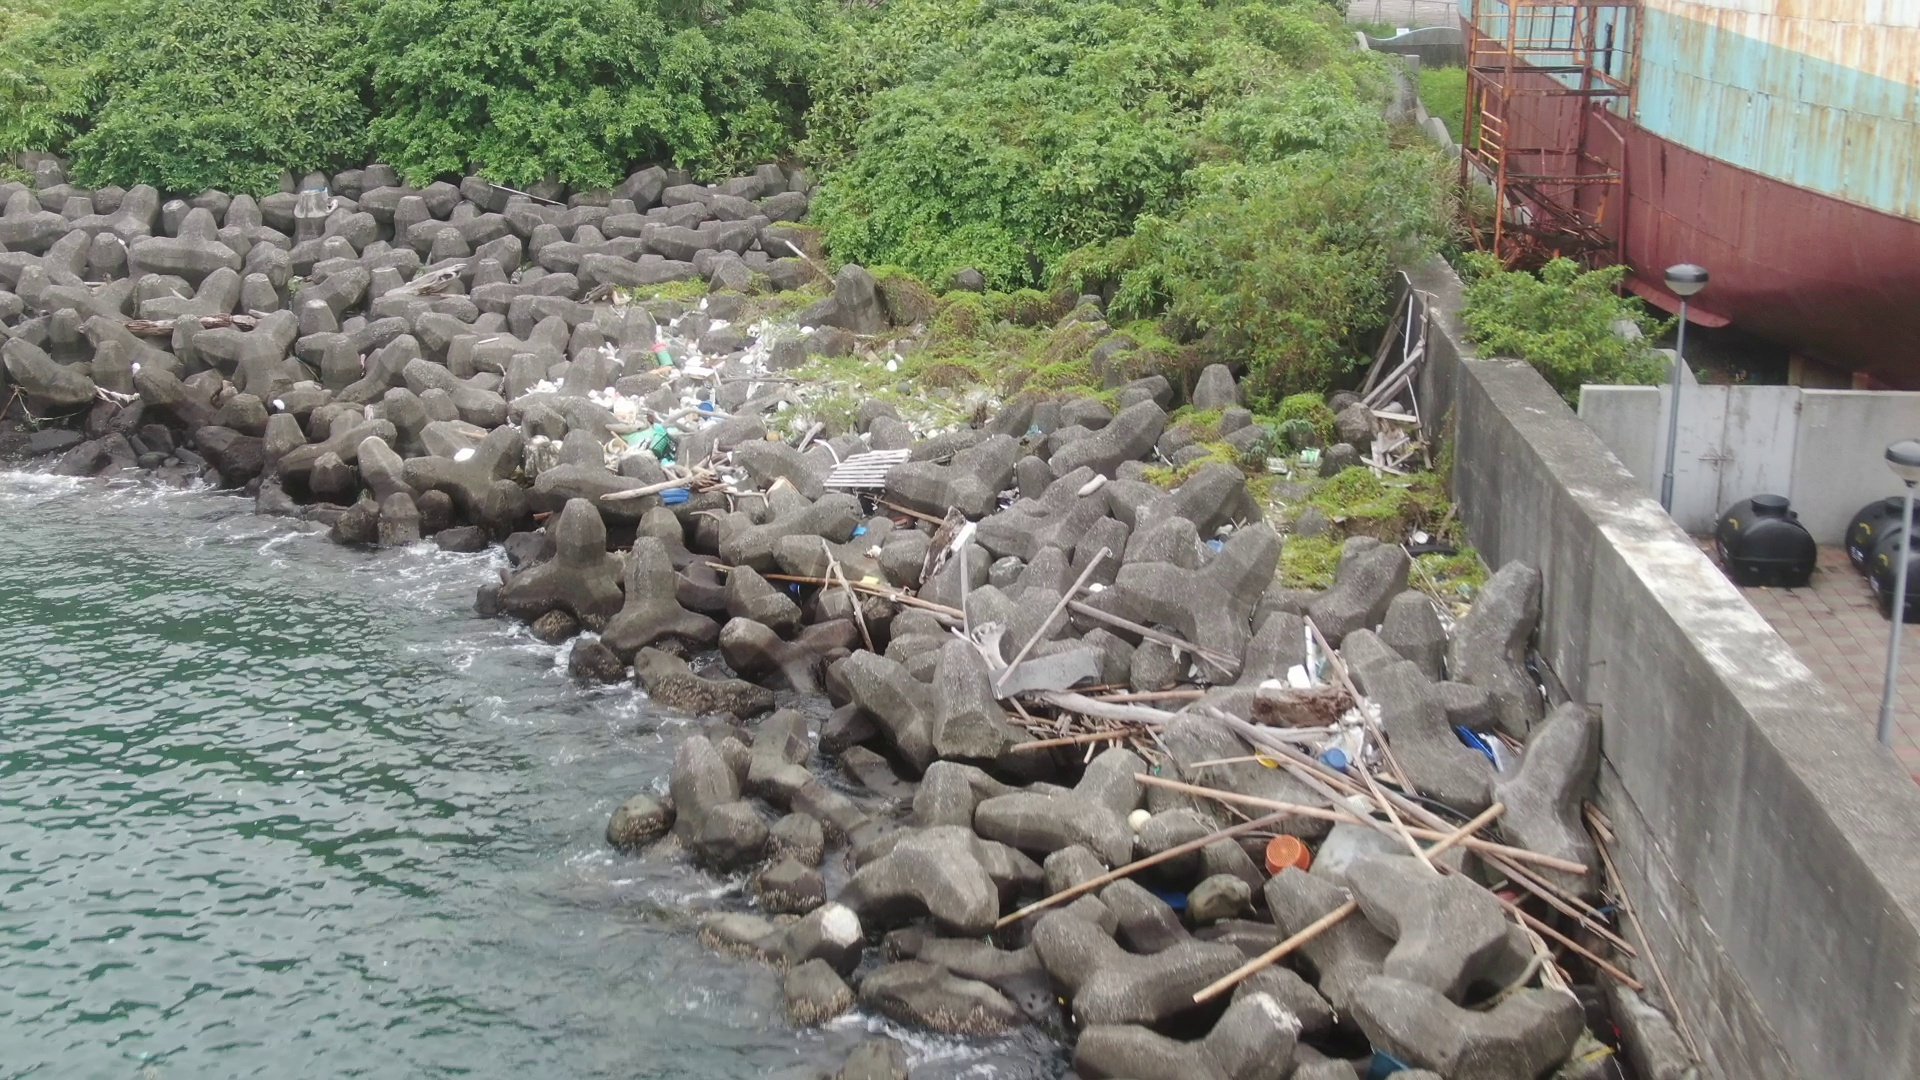garbage: (512, 290, 934, 501), (1230, 595, 1520, 887), (837, 501, 1121, 724), (1087, 795, 1212, 913), (1586, 876, 1636, 947), (1404, 526, 1464, 560), (1361, 1044, 1415, 1080), (1296, 442, 1328, 469)
